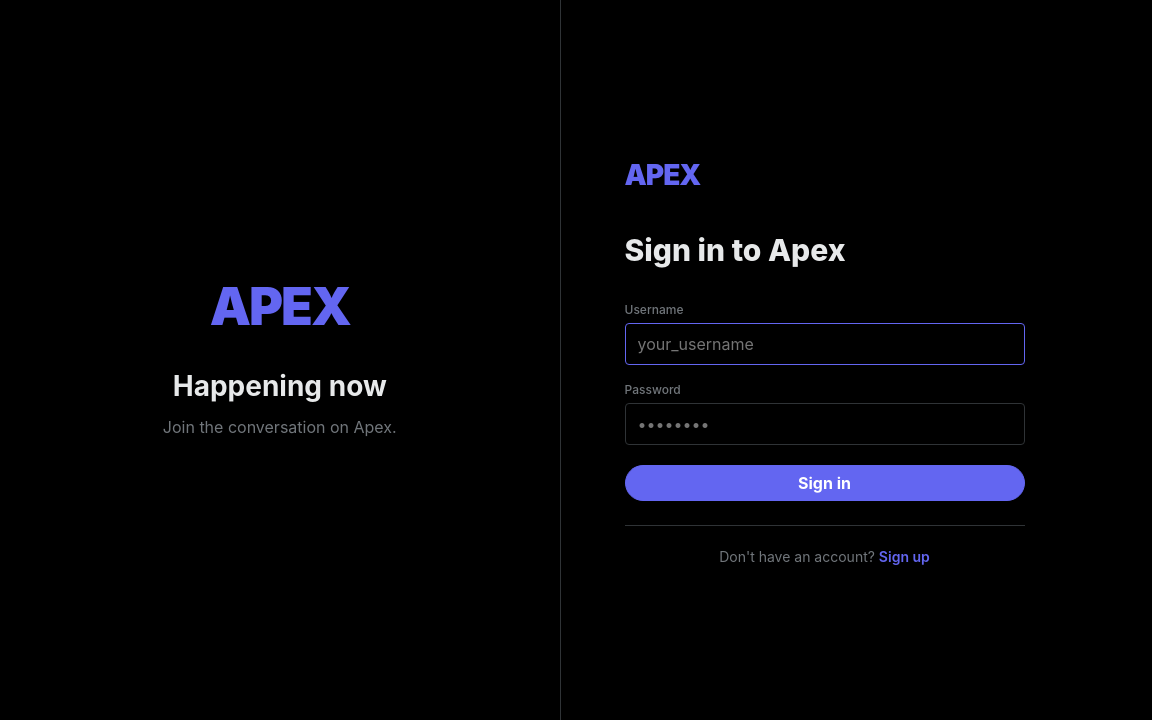
Scenario: AuthPage — client-side validation › shows "Required" error when username is empty on submit
Click the button "Sign in" at (824, 482), box [624,464,1024,500]
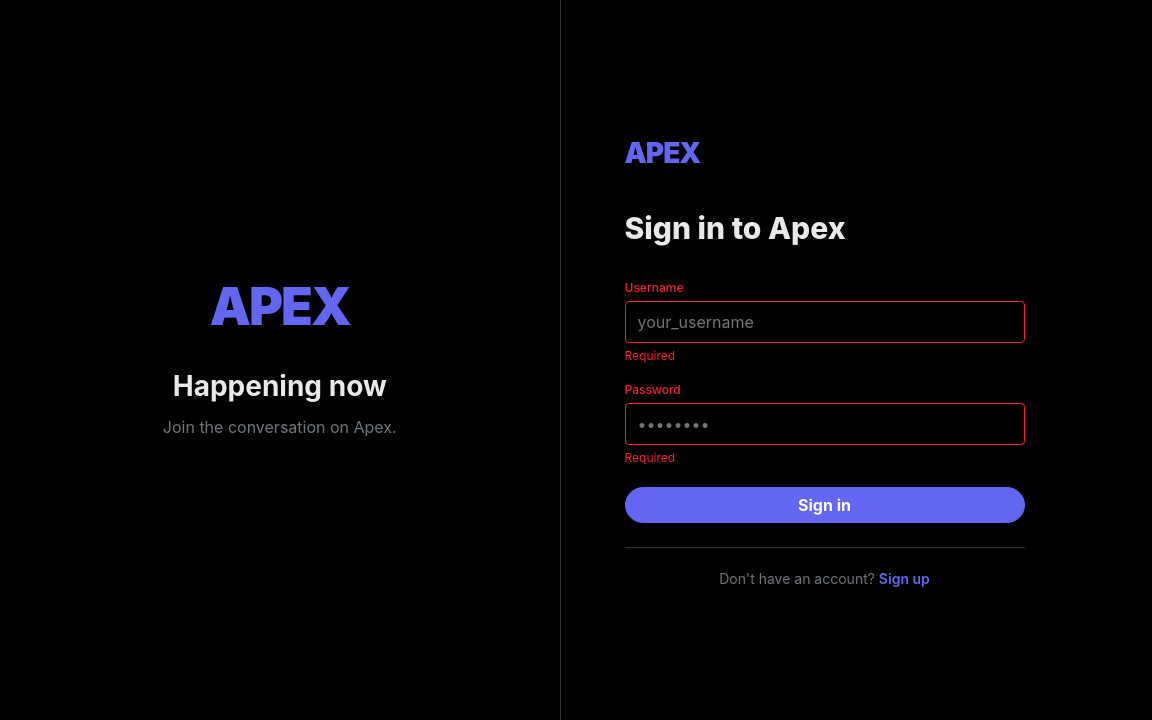
Expected: the text "Required" below "Username" is shown, [624,348,675,362]
